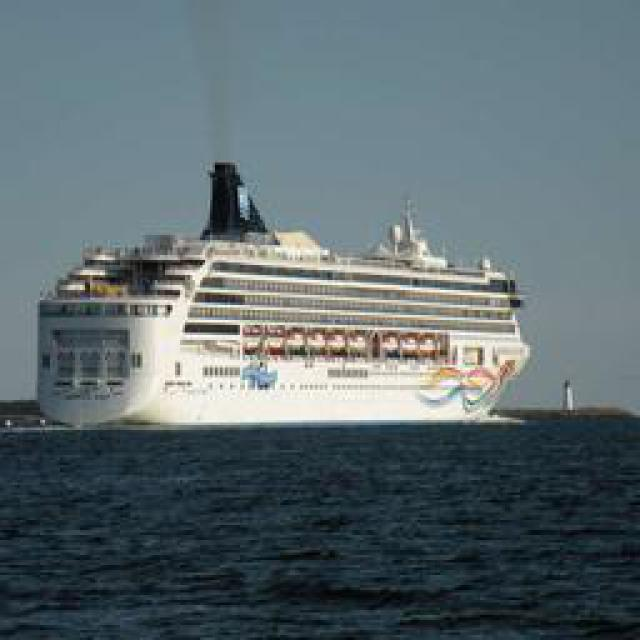Ship: (42, 164, 540, 427)
